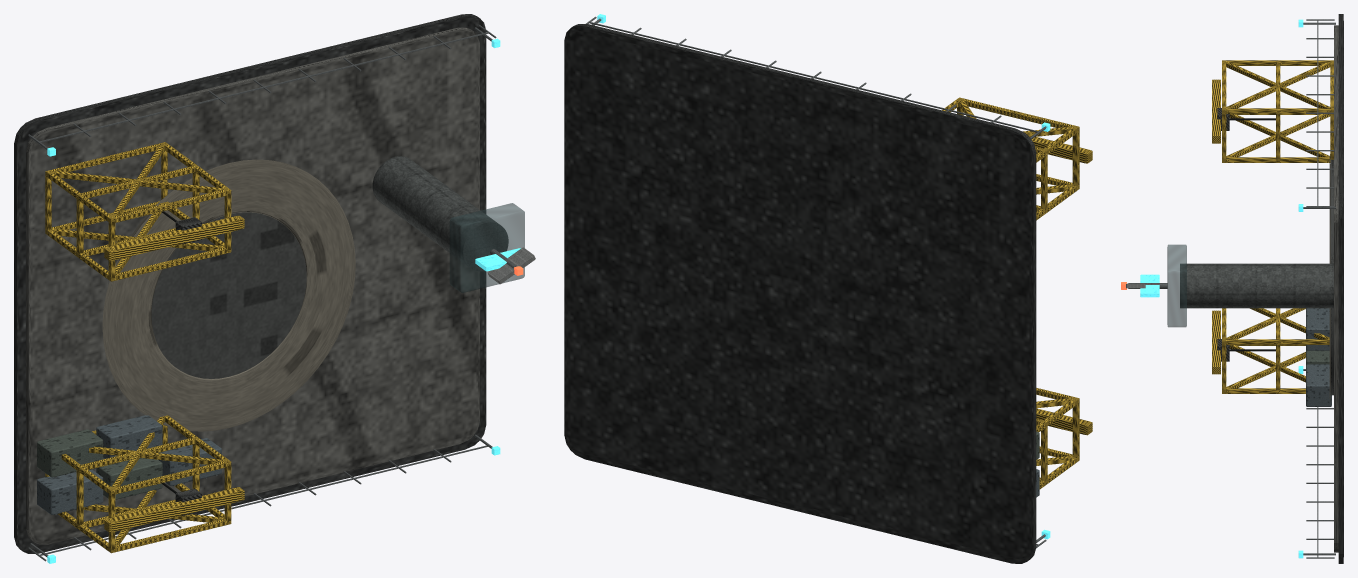
The model's file is b-06-supply-beacon-lod0.glb.
3 renders of one model, left to right at view 1: azimuth 30°, elevation 25°; view 2: azimuth 150°, elevation 25°; view 3: azimuth 270°, elevation 25°, orthographic. The views are drawn at different scales.
Visible parts, largest first — view 1: foundation_inner_pad, landing_pad_ring, primary_landing_pad, foundation, tower_main, tower_glass, supply_container_3_container, supply_crane_south_bridge, supply_crane_north_bridge, supply_container_0_container, supply_container_4_container, supply_container_1_container (+12 smaller); view 2: foundation, supply_crane_north_beam_x_2_n, supply_crane_north_bridge; view 3: tower_main, foundation, foundation_inner_pad, tower_glass, supply_container_2_container, supply_container_4_container, primary_landing_pad, supply_crane_north_brace_b_1, supply_crane_north_brace_a_1, supply_crane_north_brace_a_-1, supply_crane_south_column_e_n, supply_crane_north_column_e_s (+13 smaller).
Boxes of the visible parts, box(x1,y1,x2,y2) form: foundation_inner_pad: box(26, 27, 479, 544); landing_pad_ring: box(102, 159, 355, 431); primary_landing_pad: box(151, 212, 306, 378); foundation: box(14, 14, 486, 553); tower_main: box(372, 156, 508, 270); tower_glass: box(449, 203, 524, 292); supply_container_3_container: box(37, 429, 103, 477); supply_crane_south_bridge: box(104, 487, 244, 532); supply_crane_north_bridge: box(104, 215, 244, 260); supply_container_0_container: box(37, 469, 103, 514); supply_container_4_container: box(96, 415, 162, 458); supply_container_1_container: box(96, 458, 162, 499); foundation: box(564, 24, 1036, 563); supply_crane_north_beam_x_2_n: box(961, 98, 1079, 132); supply_crane_north_bridge: box(1031, 137, 1092, 163); tower_main: box(1180, 263, 1333, 308); foundation: box(1338, 14, 1343, 563); foundation_inner_pad: box(1334, 25, 1338, 552); tower_glass: box(1167, 244, 1186, 327); supply_container_2_container: box(1306, 364, 1331, 406); supply_container_4_container: box(1306, 308, 1329, 350); primary_landing_pad: box(1330, 159, 1333, 395); supply_crane_north_brace_b_1: box(1226, 62, 1330, 108); supply_crane_north_brace_a_1: box(1226, 62, 1330, 108); supply_crane_north_brace_a_-1: box(1226, 114, 1330, 157); supply_crane_south_column_e_n: box(1225, 339, 1329, 344); supply_crane_north_column_e_s: box(1226, 157, 1330, 162).
Size of what is drawn, in the model's own units: 17 by 15 by 8.22.
Materials: 15 (15 with a texture image).
